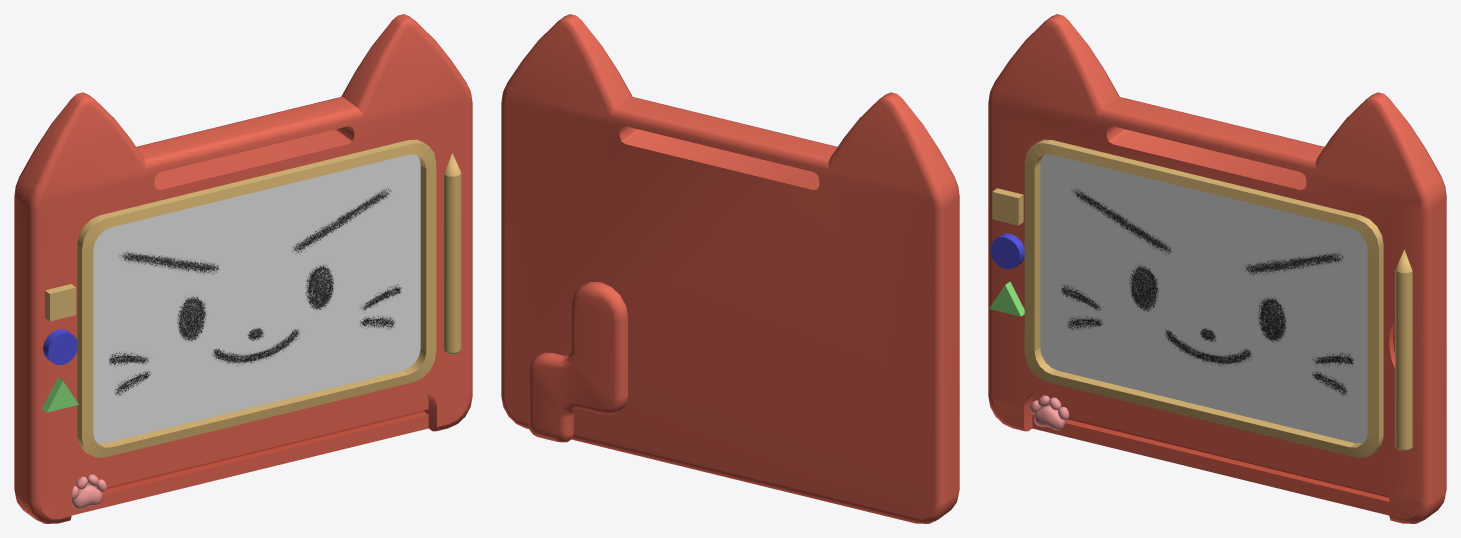
Rendered from board.glb.
3 views of the same model, side by side, from view 1: azimuth 30°, elevation 25°; view 2: azimuth 150°, elevation 25°; view 3: azimuth 330°, elevation 25° (orthographic).
Parts seen in each view (by area): view 1: Body, Face01, Frame, Pen, Square, Circle, Paw, Triangle; view 2: Body, Tail; view 3: Body, Face01, Frame, Pen, Square, Circle, Paw, Triangle.
Boxes of the visible parts, x1=… form: Body: x1=14, y1=14, x2=472, y2=523; Face01: x1=93, y1=154, x2=420, y2=443; Frame: x1=77, y1=139, x2=436, y2=457; Pen: x1=443, y1=153, x2=461, y2=354; Square: x1=45, y1=284, x2=76, y2=321; Circle: x1=43, y1=329, x2=78, y2=364; Paw: x1=71, y1=474, x2=106, y2=509; Triangle: x1=42, y1=377, x2=78, y2=412; Body: x1=501, y1=14, x2=959, y2=523; Tail: x1=528, y1=282, x2=627, y2=442; Body: x1=988, y1=14, x2=1446, y2=523; Face01: x1=1040, y1=154, x2=1367, y2=443; Frame: x1=1024, y1=139, x2=1383, y2=457; Pen: x1=1395, y1=249, x2=1412, y2=450; Square: x1=992, y1=188, x2=1023, y2=225; Circle: x1=990, y1=233, x2=1024, y2=269; Paw: x1=1030, y1=395, x2=1069, y2=430; Triangle: x1=989, y1=281, x2=1024, y2=316.
Size of the model in its own units: 2 by 1.79 by 0.2654.
2 materials, 2 textured.
